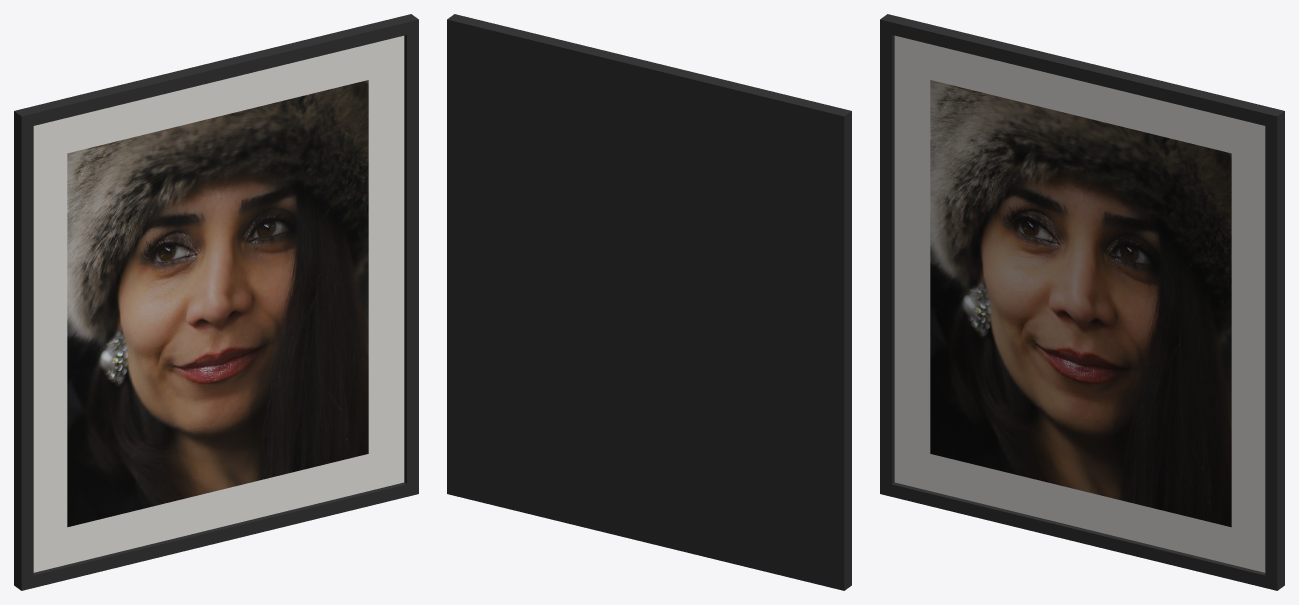
File: azizam-60.gltf
The picture shows the model from 3 angles, left to right: view 1: azimuth 30°, elevation 25°; view 2: azimuth 150°, elevation 25°; view 3: azimuth 330°, elevation 25°; orthographic projection.
Visible parts, largest first — view 1: tavla; view 2: tavla; view 3: tavla.
Boxes of the visible parts, x1,y1,x2,y2 form: tavla: [14, 14, 418, 590]; tavla: [447, 14, 851, 590]; tavla: [880, 14, 1284, 590].
Bounding box in the file's own units: 0.6673 × 0.7614 × 0.022.
3 materials, 1 textured.
